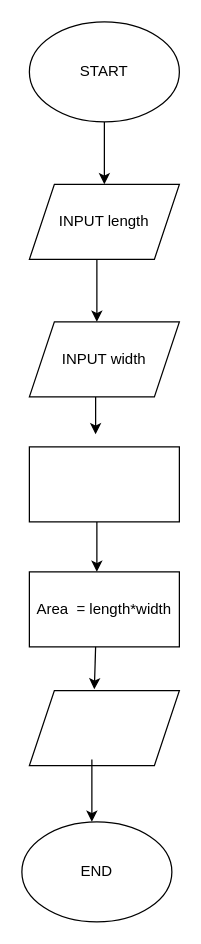
The diagram is 201 pixels wide and 944 high, and some of its shapes have lost their labels. Each missing label, with the centre of its shape:
chu vi = (length+ width)*2: point 103,484
OUTPUT chu vi, area: point 103,727
